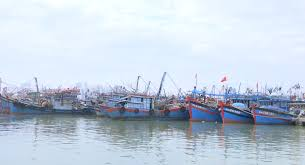tau_dansu: (4, 85, 94, 119), (250, 96, 298, 125), (110, 88, 153, 118), (221, 98, 256, 129), (187, 94, 219, 125)
